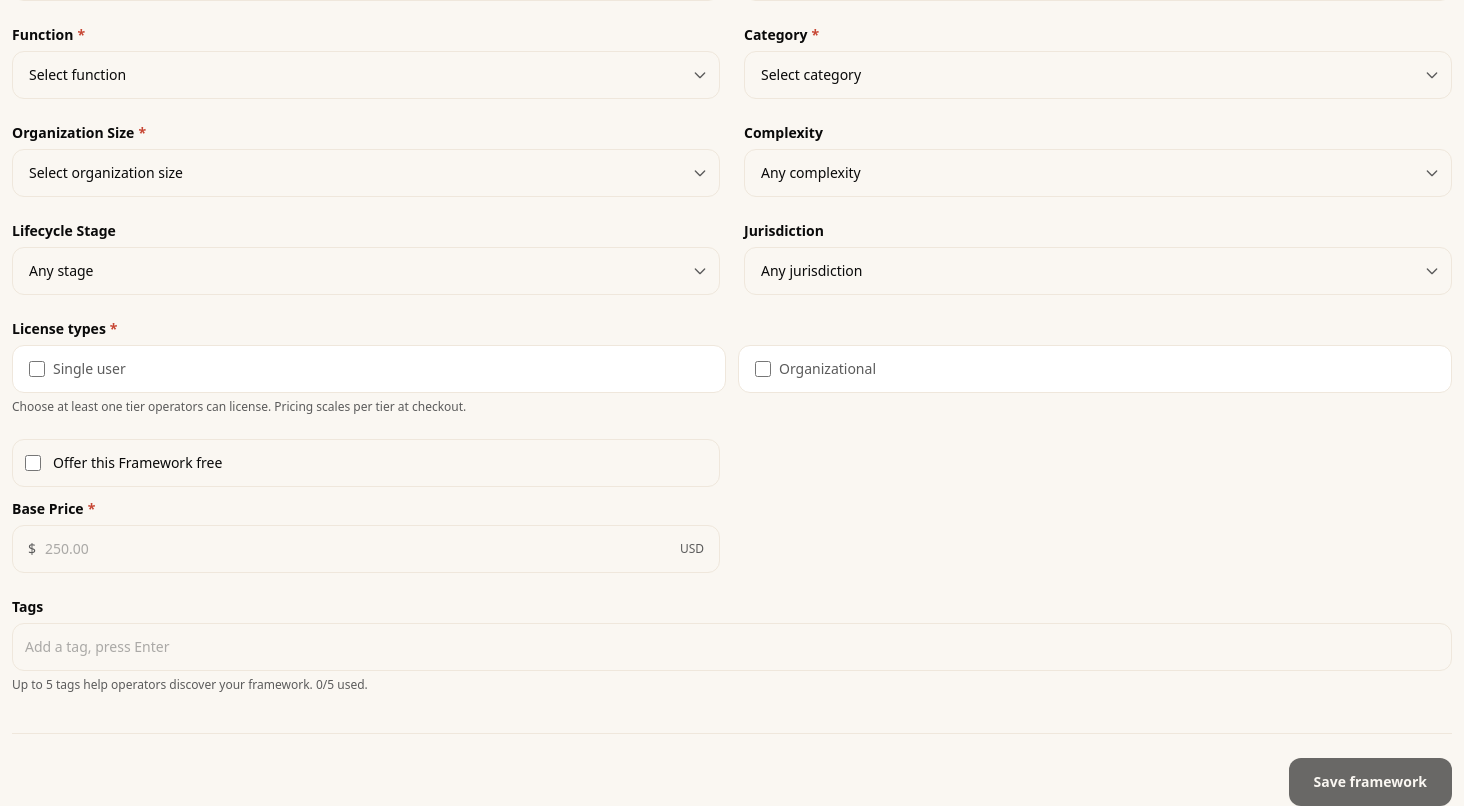
it: FrameworkForm › removes a tag chip
(page scrolled)
Type "python" into the field labelled "Tags". click: point(732, 647)
box: [25,637,1439,657]
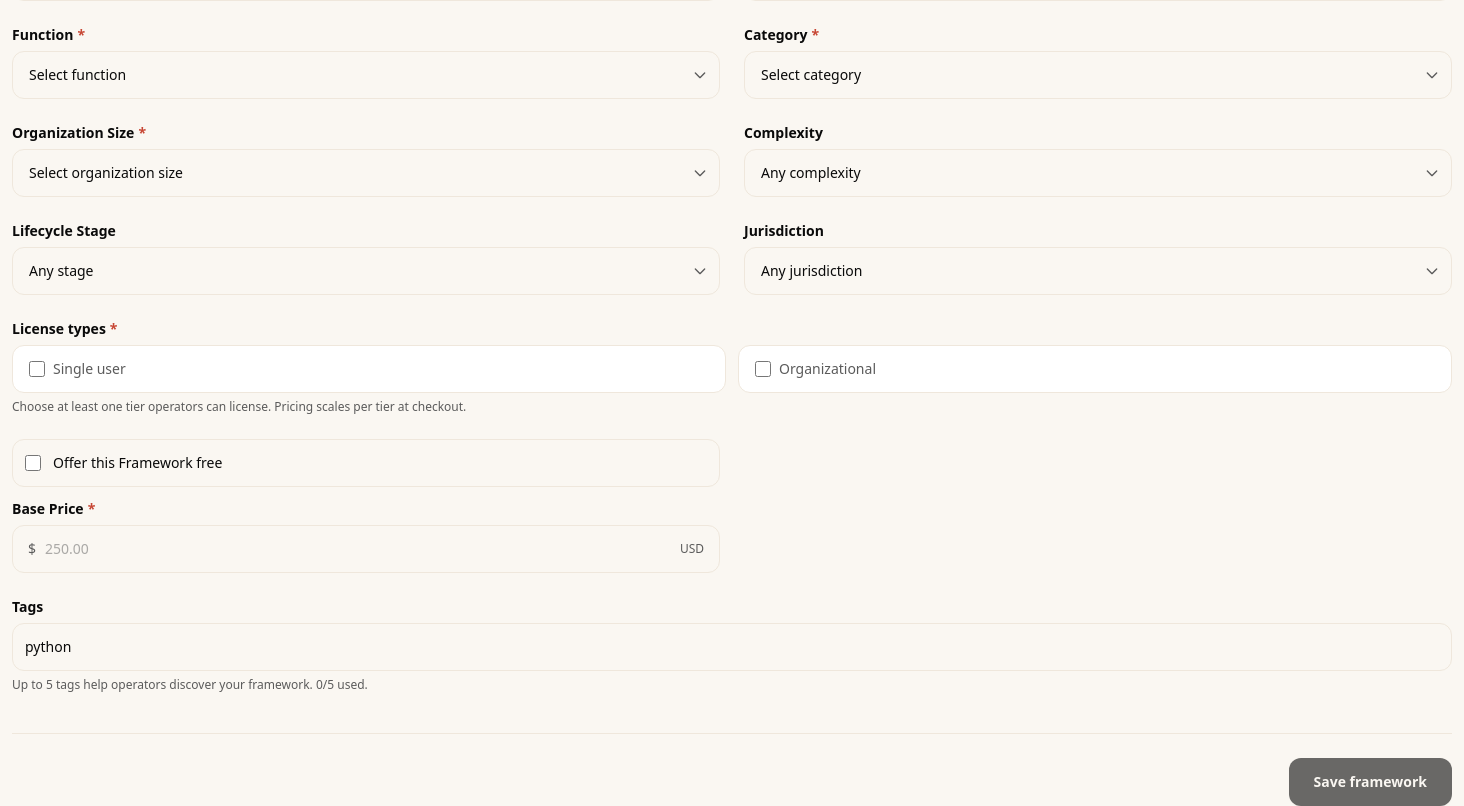
Press Enter in the field labelled "Tags", box [25,637,1439,657]
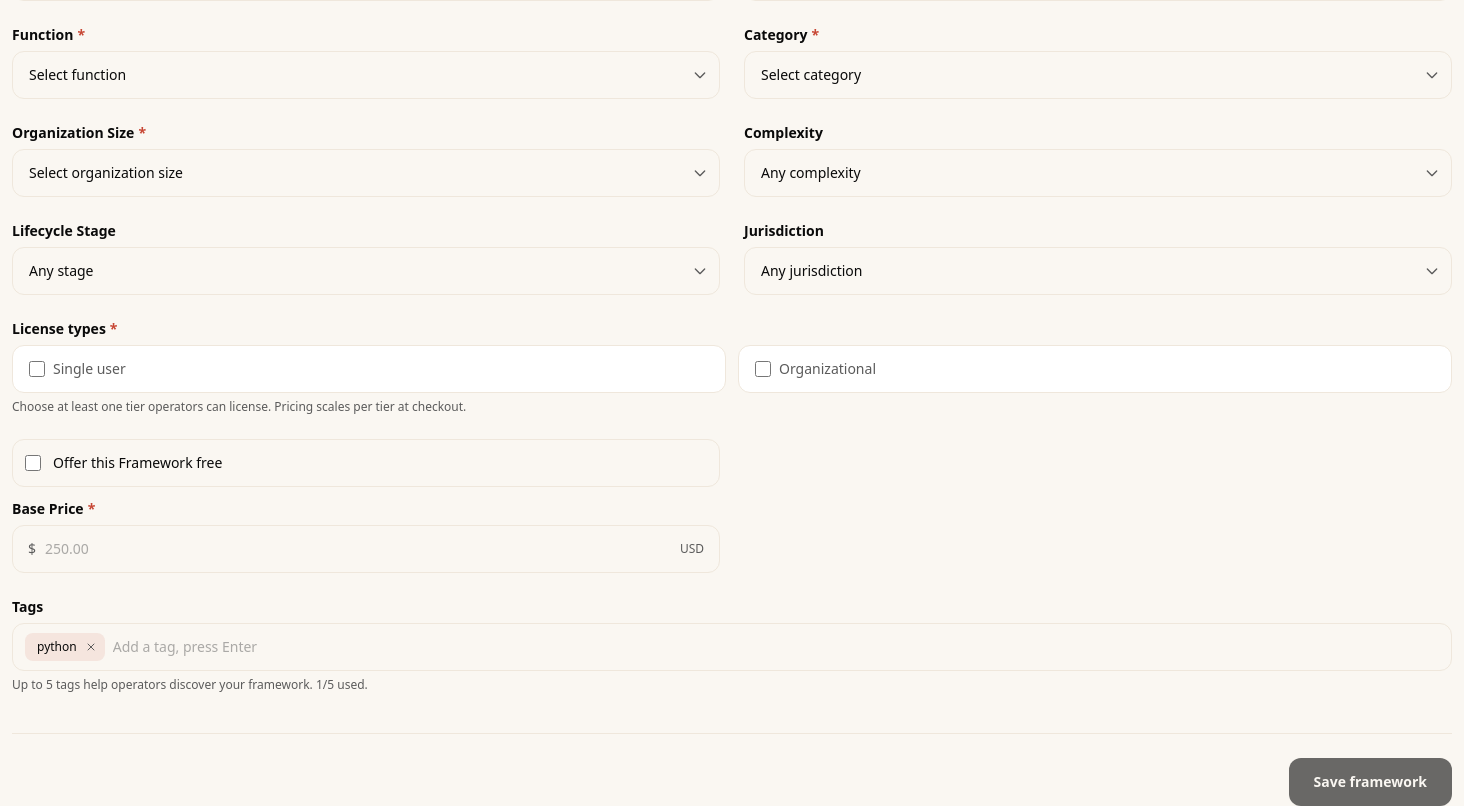
Result: the text "python" is shown at [25,633,105,661]
Click the button named "remove python". click: point(91, 647)
box: [81,637,101,657]
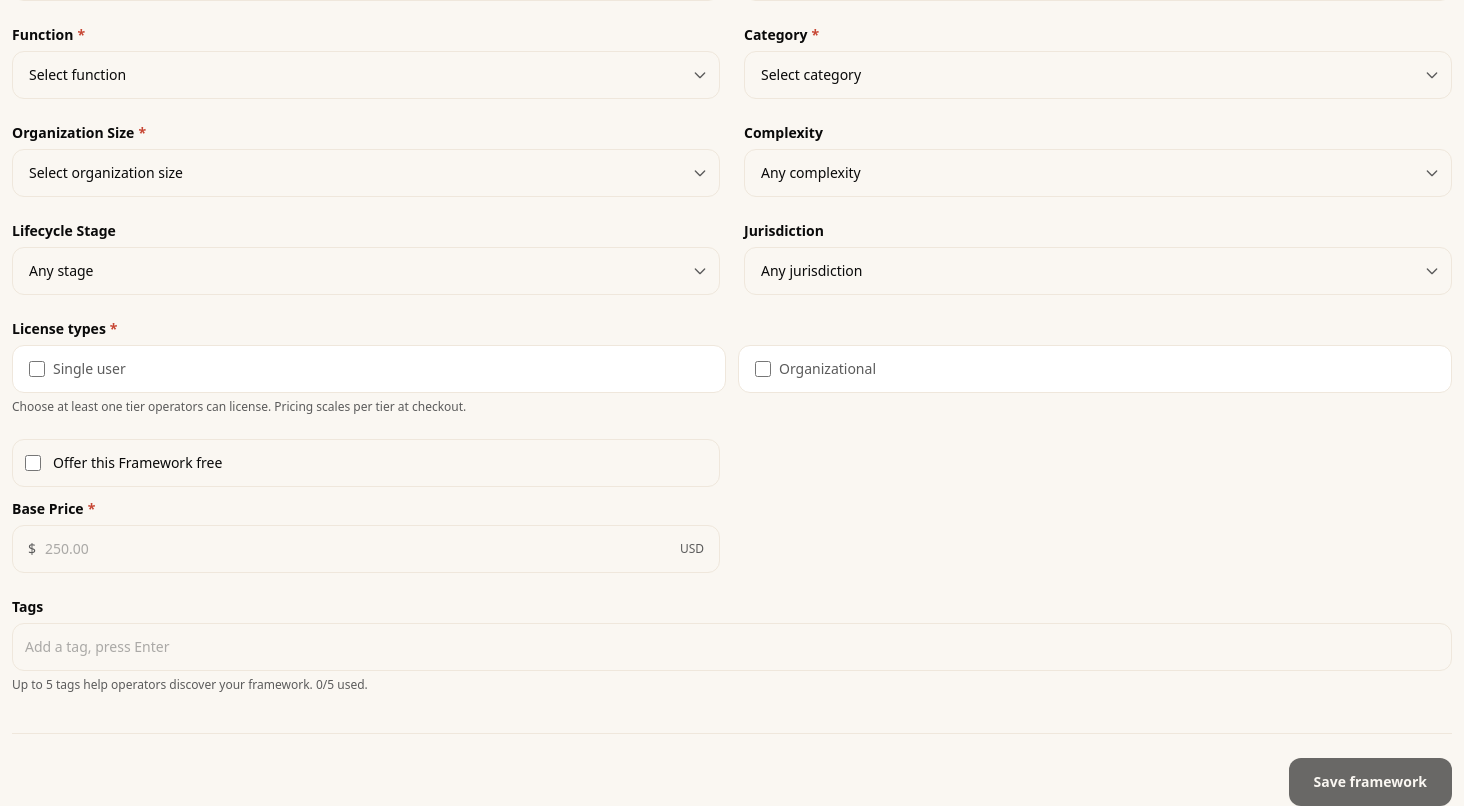
Result: the text "python" is gone
